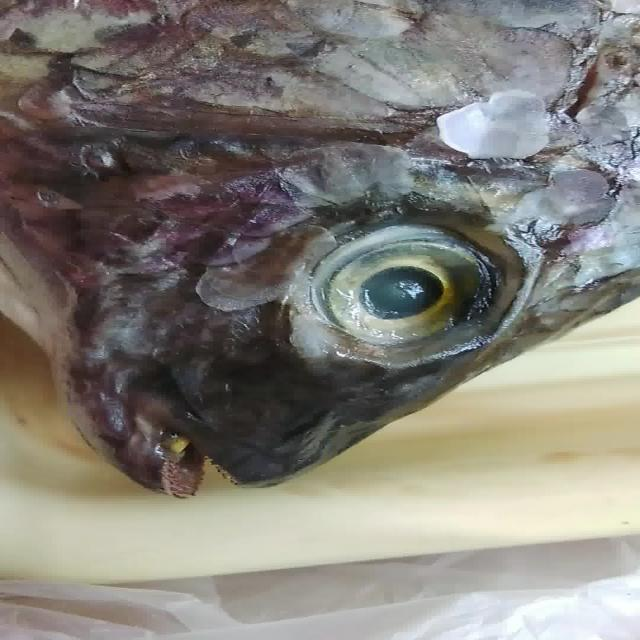Non-Fresh: (26, 61, 604, 485)
